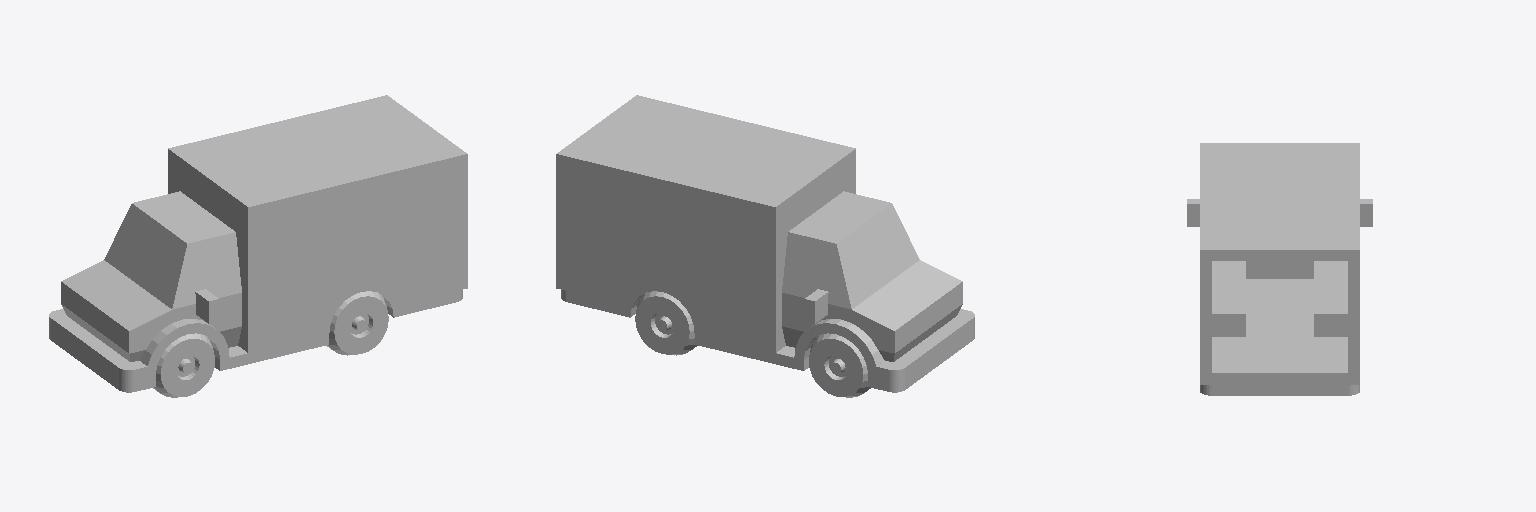
Rendered from delivery.obj.
3 renders of one model, left to right at view 1: azimuth 30°, elevation 25°; view 2: azimuth 150°, elevation 25°; view 3: azimuth 270°, elevation 25°, orthographic.
Visible parts, largest first — view 1: body, wheel_backLeft, wheel_frontLeft; view 2: body, wheel_backRight, wheel_frontRight; view 3: body.
Boxes of the visible parts, box(x1,y1,x2,y2) form: body: box(49, 95, 467, 392); wheel_backLeft: box(326, 291, 388, 355); wheel_frontLeft: box(153, 333, 214, 397); body: box(556, 95, 974, 392); wheel_backRight: box(635, 291, 697, 355); wheel_frontRight: box(809, 333, 870, 397); body: box(1187, 143, 1372, 395).
Size of the model in its own units: 2.4 by 1.2 by 1.12.